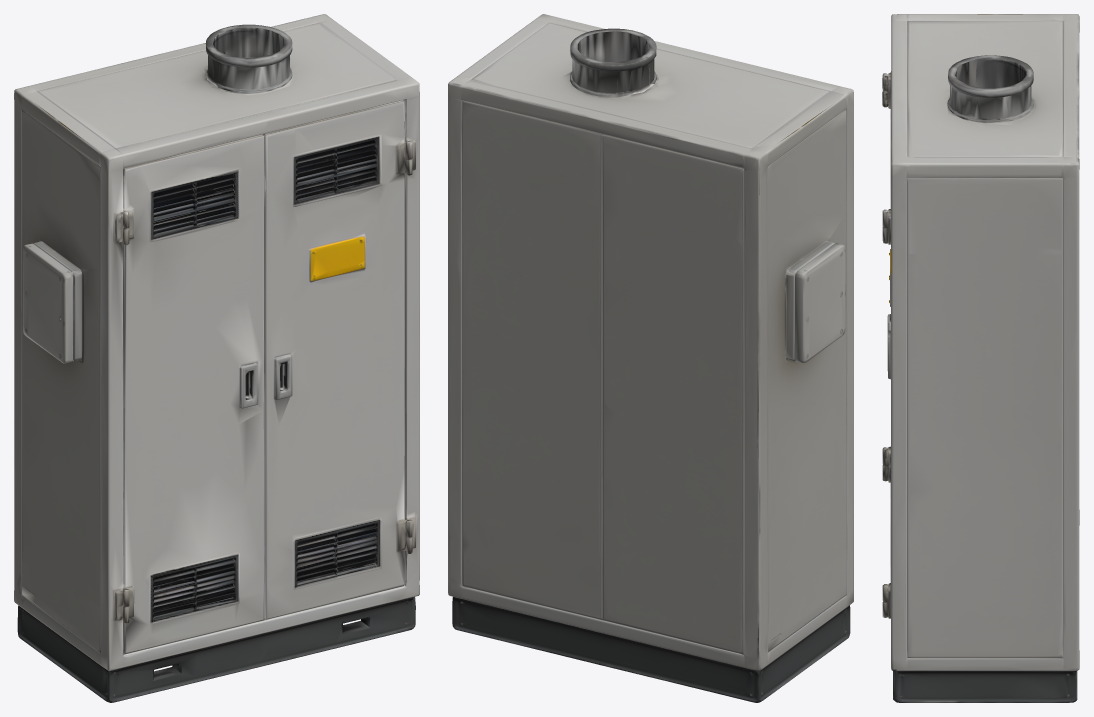
The model's file is gas-cabinet-a.glb.
3 renders of one model, left to right at view 1: azimuth 30°, elevation 25°; view 2: azimuth 150°, elevation 25°; view 3: azimuth 270°, elevation 25°, orthographic.
Parts seen in each view (by area): view 1: node_0; view 2: node_0; view 3: node_0.
Boxes of the visible parts, x1,y1,x2,y2 form: node_0: [14, 14, 419, 702]; node_0: [448, 14, 853, 702]; node_0: [882, 14, 1079, 702].
Bounding box in the file's own units: 0.6015 × 1.01 × 0.3144.
Materials: 1 (1 with a texture image).
